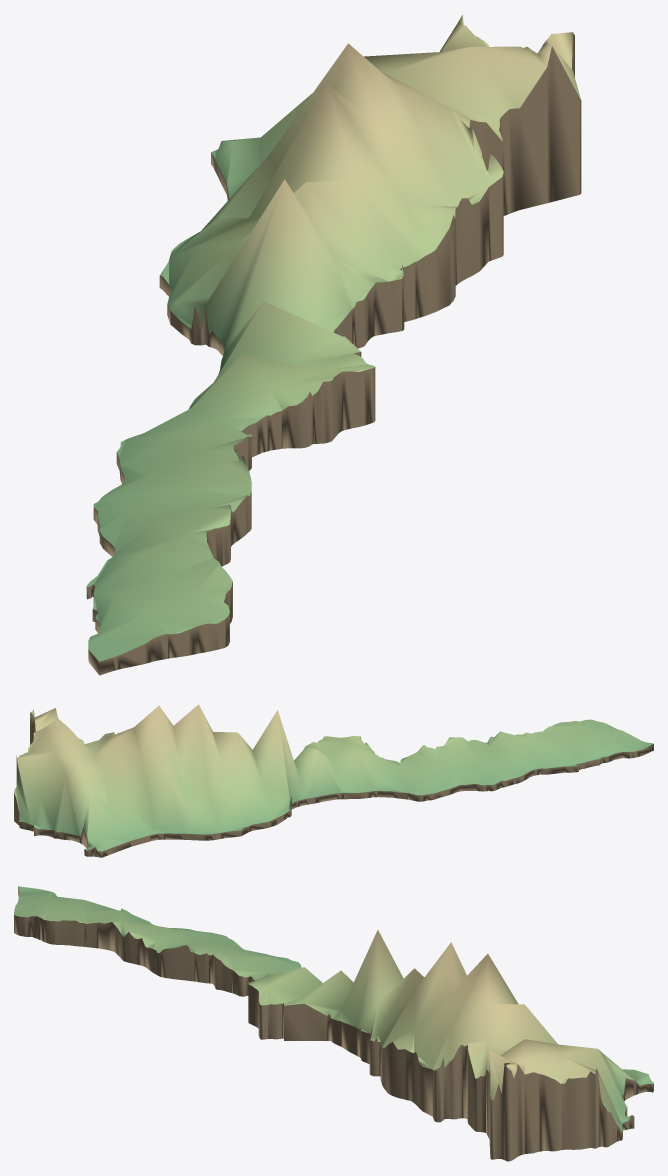
The model's file is MAR.glb.
3 views of the same model, one above another, from view 1: azimuth 30°, elevation 25°; view 2: azimuth 150°, elevation 25°; view 3: azimuth 270°, elevation 25° (orthographic). The views are drawn at different scales.
Visible parts, largest first — view 1: MAR; view 2: MAR; view 3: MAR.
Boxes of the visible parts, x1,y1,x2,y2 form: MAR: (86, 15, 581, 675); MAR: (14, 704, 653, 857); MAR: (14, 886, 653, 1161).
Bounding box in the file's own units: 1.33 × 0.3095 × 1.35.
